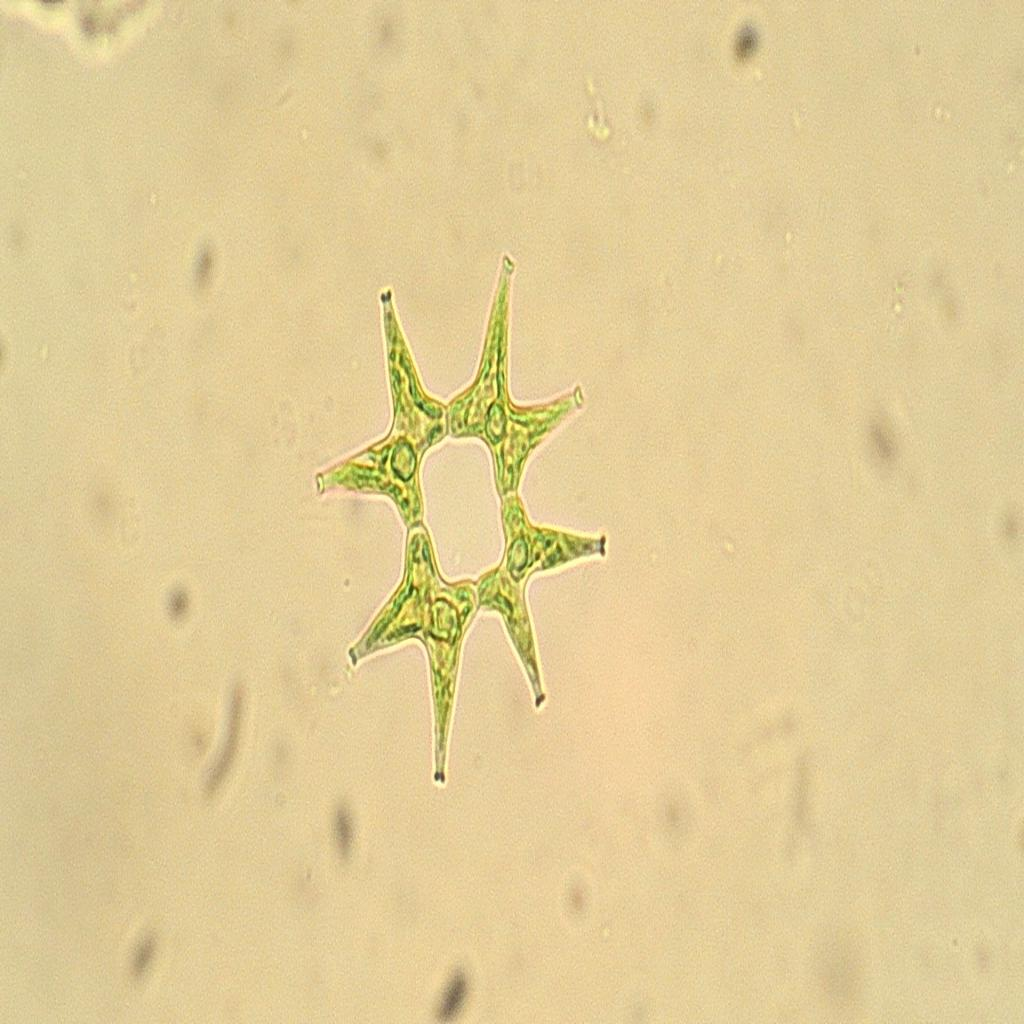Pediastrum_CO: (278, 244, 619, 798)
